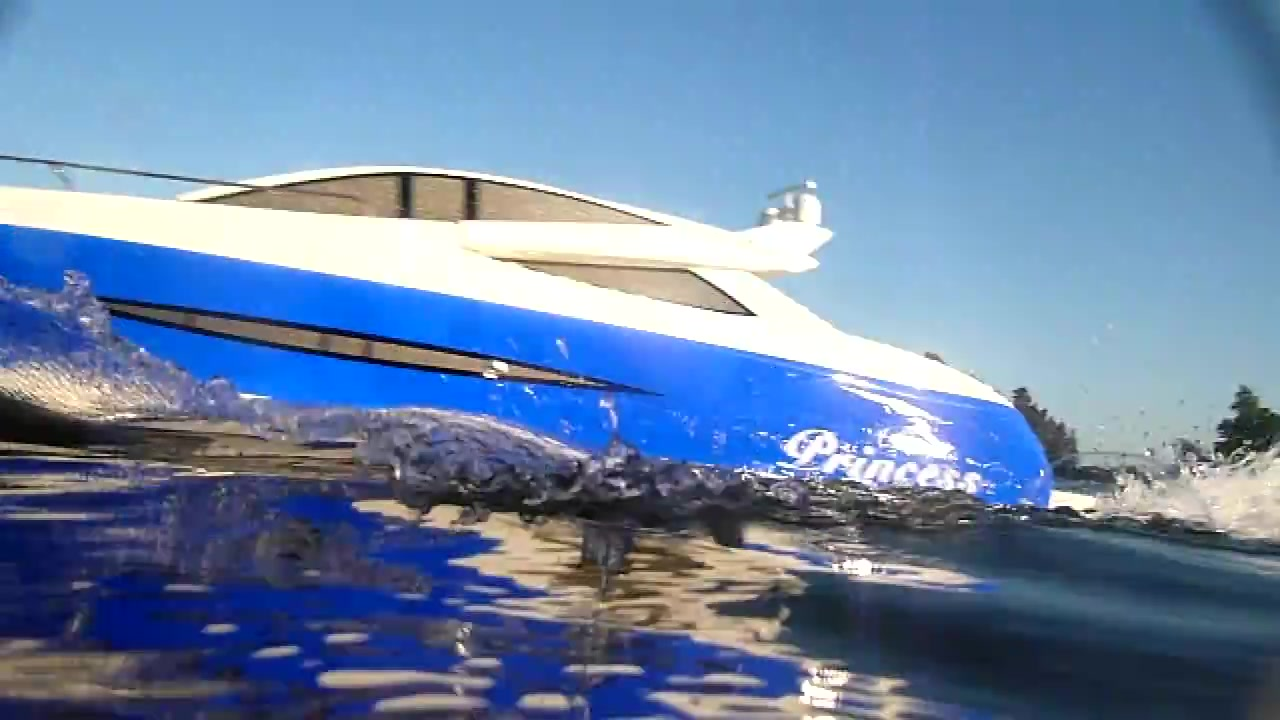boat: (1, 113, 1058, 531)
